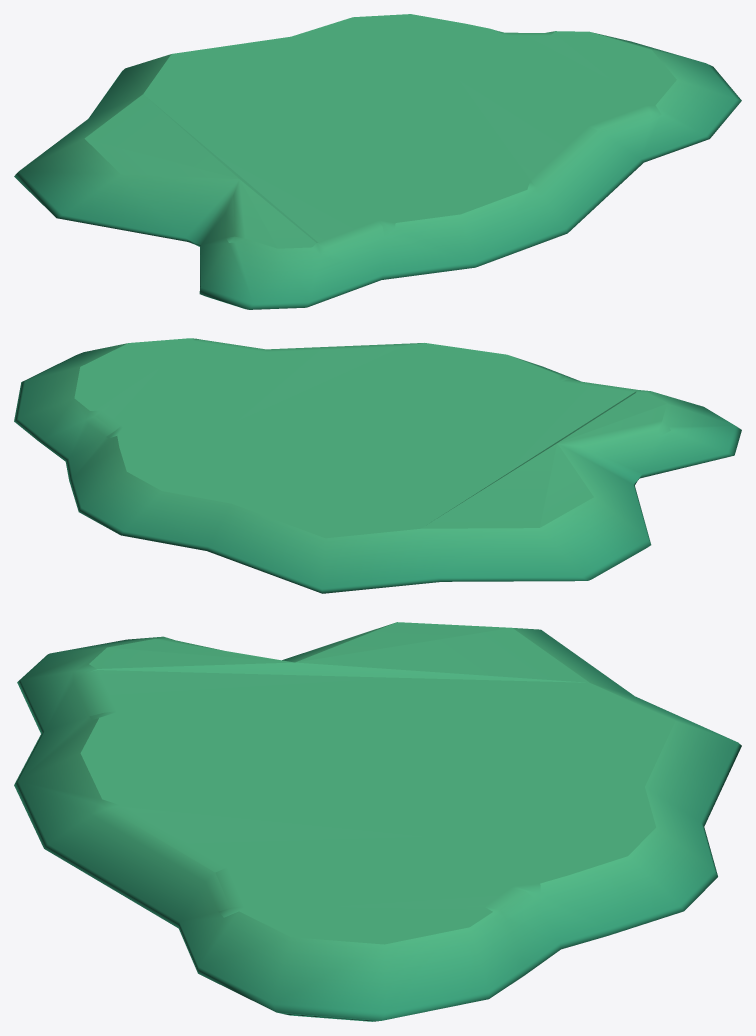
The model's file is patch-grass.glb.
The picture shows the model from 3 angles, top to bottom: view 1: azimuth 30°, elevation 25°; view 2: azimuth 150°, elevation 25°; view 3: azimuth 270°, elevation 25°; orthographic projection. The views are drawn at different scales.
Parts seen in each view (by area): view 1: patch-grass; view 2: patch-grass; view 3: patch-grass.
Part boxes in pixels (x1,y1,x2,y2): patch-grass: [14, 14, 741, 309]; patch-grass: [14, 338, 741, 593]; patch-grass: [14, 622, 741, 1021].
Size of the model in its own units: 5.2 by 0.2952 by 4.03.
Materials: 1 (1 with a texture image).
